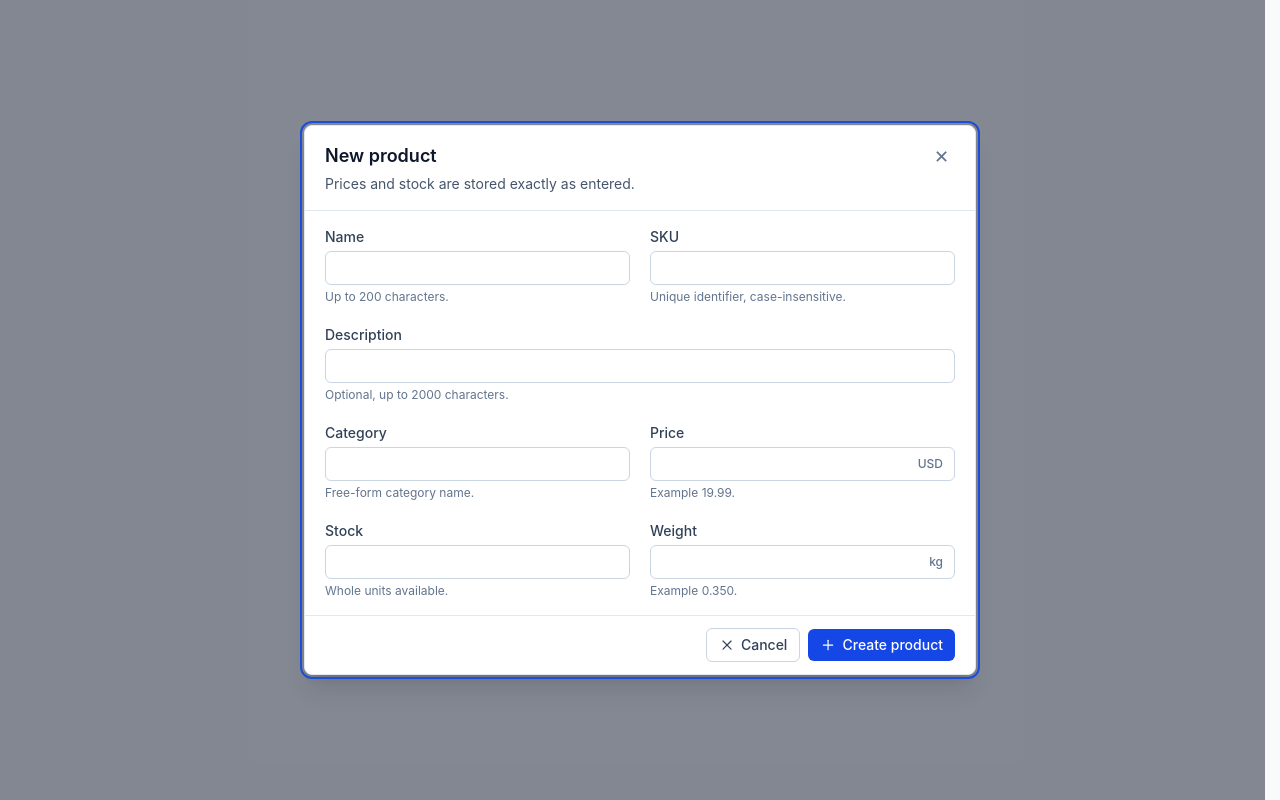
Scenario: ProductFormModal › validates while typing and clears the message once the value is valid
Step 1. Type "19.999" into the field named "Price (USD)" → (802, 464), box [650,447,955,481]
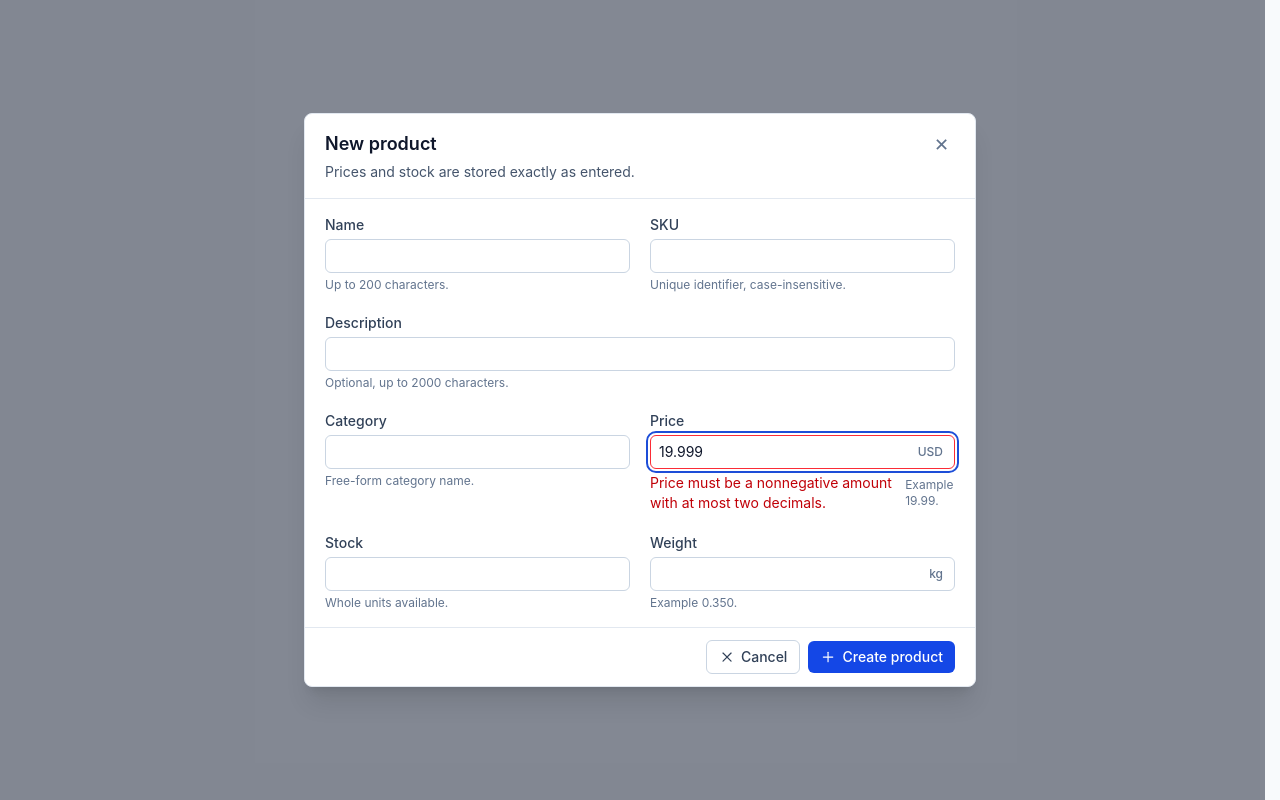
Now the text "Price must be a nonnegative amount with at most two decimals." is shown, box [650,473,897,513]
Step 2. Clear the field named "Price (USD)" → (802, 452), box [650,435,955,469]
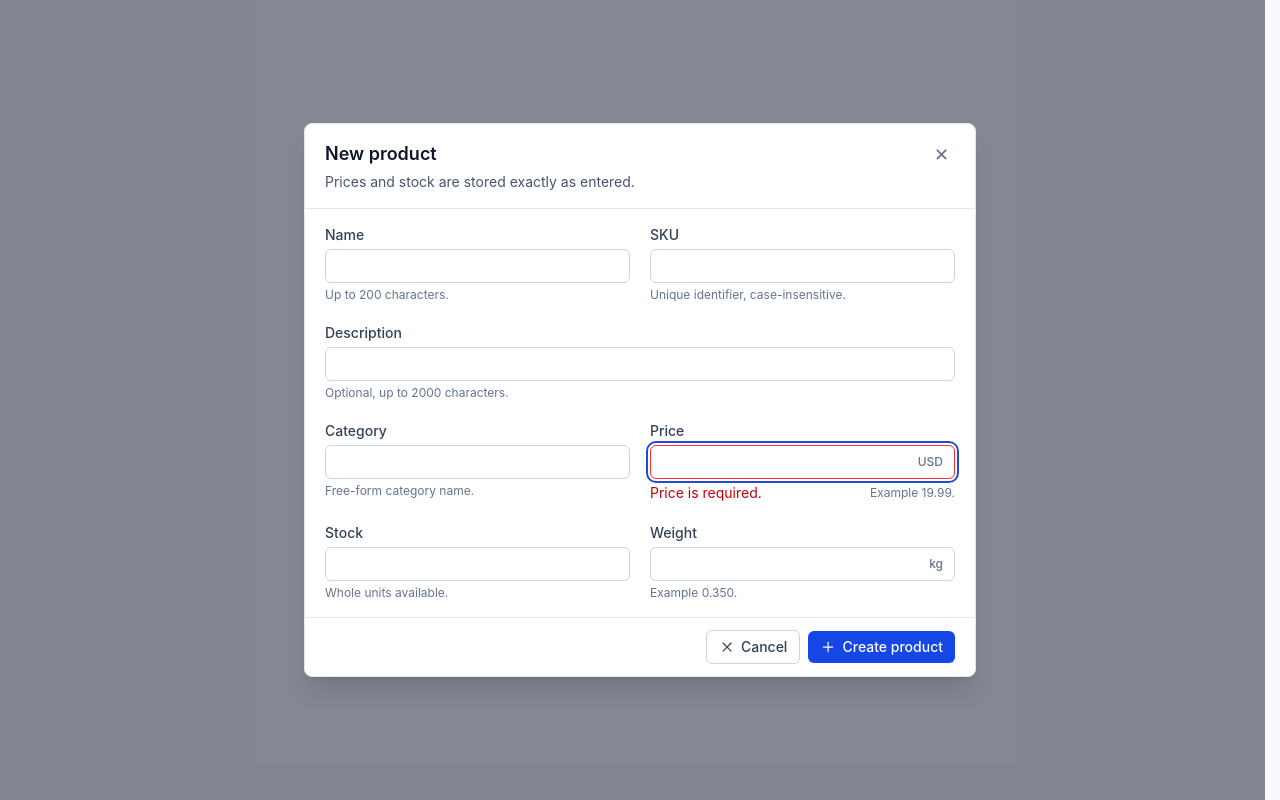
Now the text "Price is required." is shown, box [650,483,762,503]
Step 3. Type "19.99" into the field named "Price (USD)" → (802, 462), box [650,445,955,479]
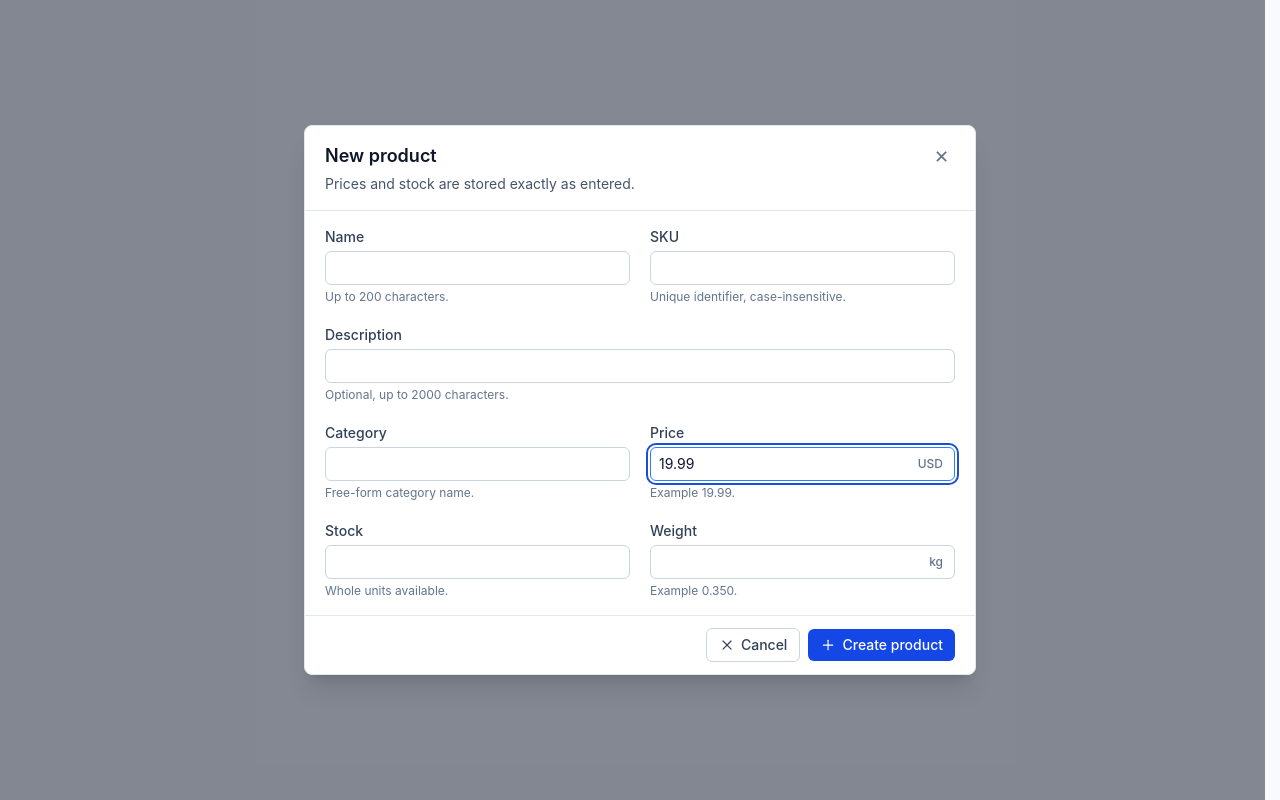
Now the text "Price is required." is gone
